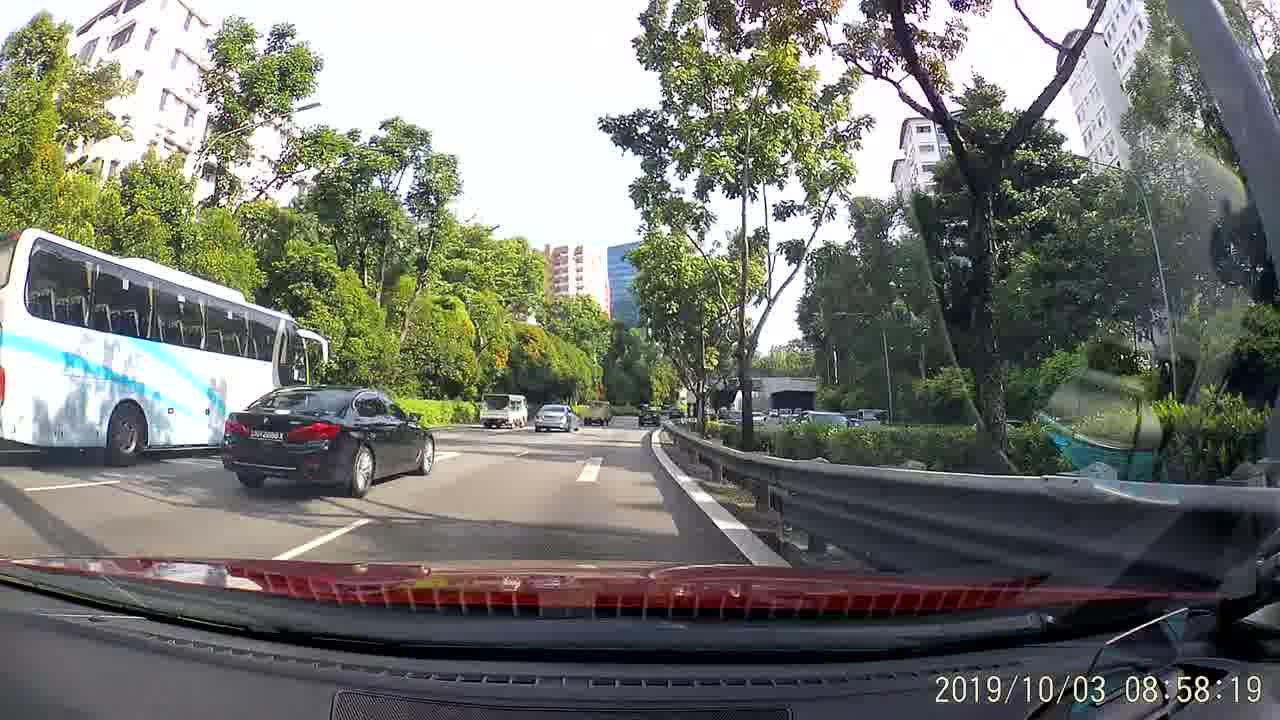bus: (3, 229, 330, 466)
car: (223, 387, 433, 495), (789, 409, 855, 434), (532, 402, 582, 434), (637, 406, 662, 428), (668, 404, 684, 419)
